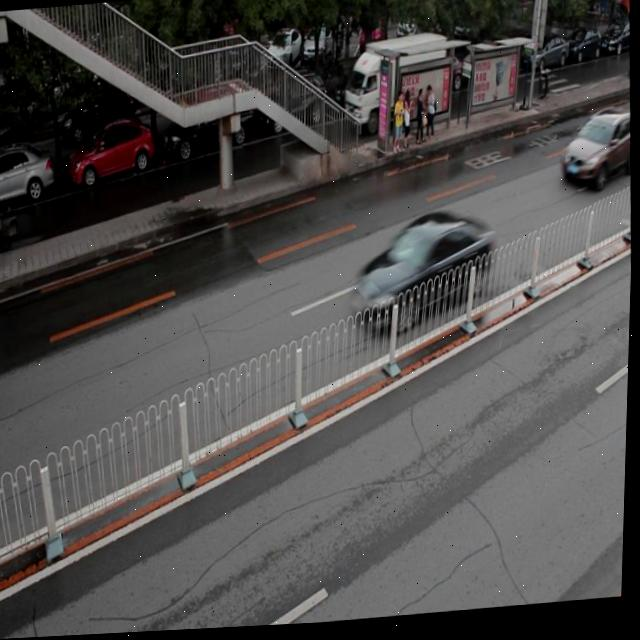bus: (343, 40, 451, 138)
car: (349, 215, 495, 338), (162, 96, 258, 168), (560, 112, 633, 198), (69, 119, 155, 188), (259, 72, 329, 138), (333, 62, 400, 121), (0, 144, 58, 209)
